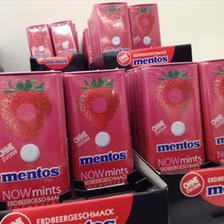Suessigkeit: (0, 71, 68, 206), (64, 68, 136, 192), (143, 61, 203, 172), (94, 1, 134, 53), (127, 4, 162, 48), (50, 20, 78, 56), (26, 22, 54, 58)
